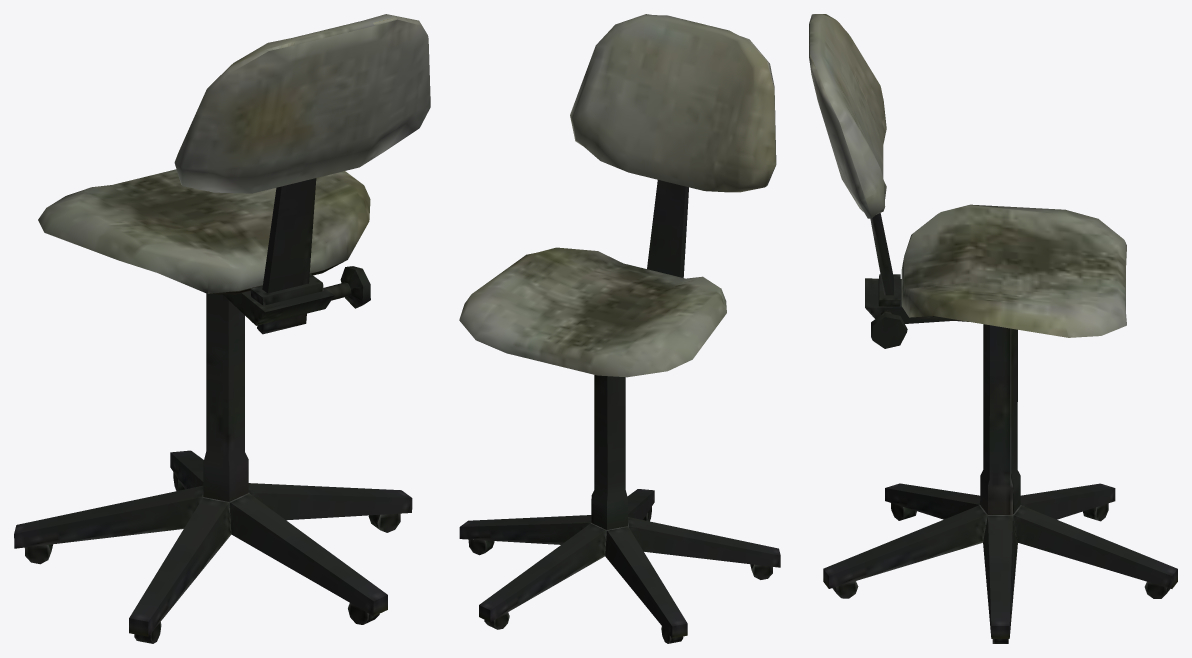
File: chair_office01a.glb
The picture shows the model from 3 angles, left to right: view 1: azimuth 30°, elevation 25°; view 2: azimuth 150°, elevation 25°; view 3: azimuth 270°, elevation 25°; orthographic projection. The views are drawn at different scales.
Visible parts, largest first — view 1: 0_chair_office01a; view 2: 0_chair_office01a; view 3: 0_chair_office01a.
Part boxes in pixels (bbox=[...]): 0_chair_office01a: bbox=[14, 14, 430, 643]; 0_chair_office01a: bbox=[459, 14, 780, 643]; 0_chair_office01a: bbox=[809, 14, 1177, 643].
Bounding box in the file's own units: 0.6134 × 1.08 × 0.6705.
1 material, 1 textured.
